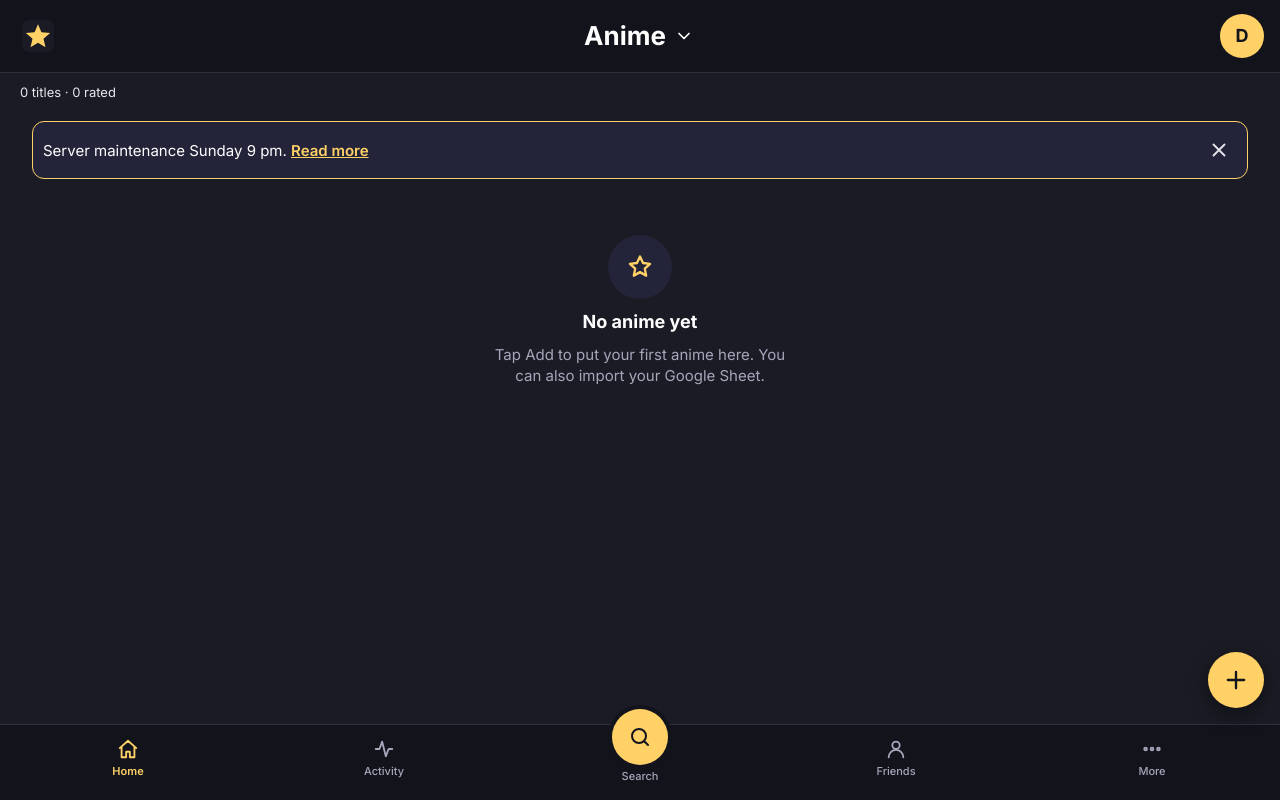
Test: announcement (AD3) › shows at the top of Home with its link, and Dismiss hides it for that announcement
Check: the element named "Announcement" shows "Server maintenance Sunday 9 pm.", box [43,141,287,160]
Click the button named "Dismiss announcement" at (1219, 150), box [1197,128,1241,172]
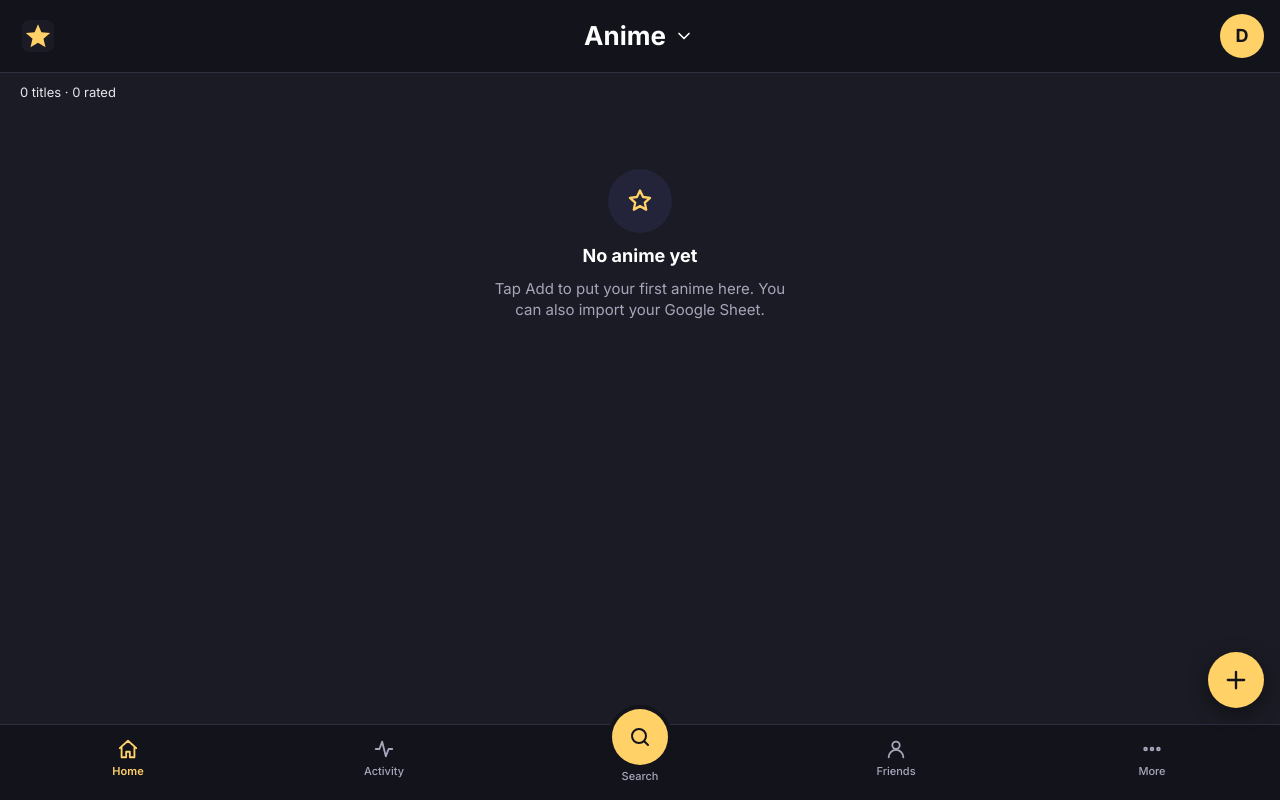
Check: the button "Announcement" is gone
